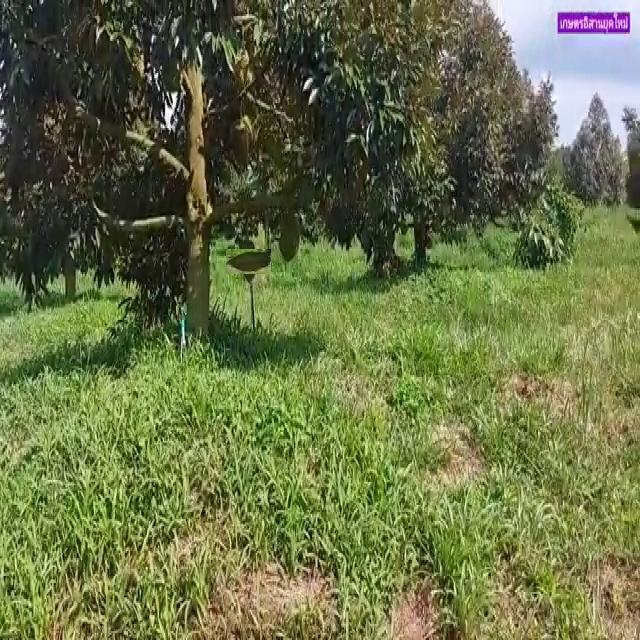durian: (277, 206, 302, 264), (231, 244, 266, 279)
